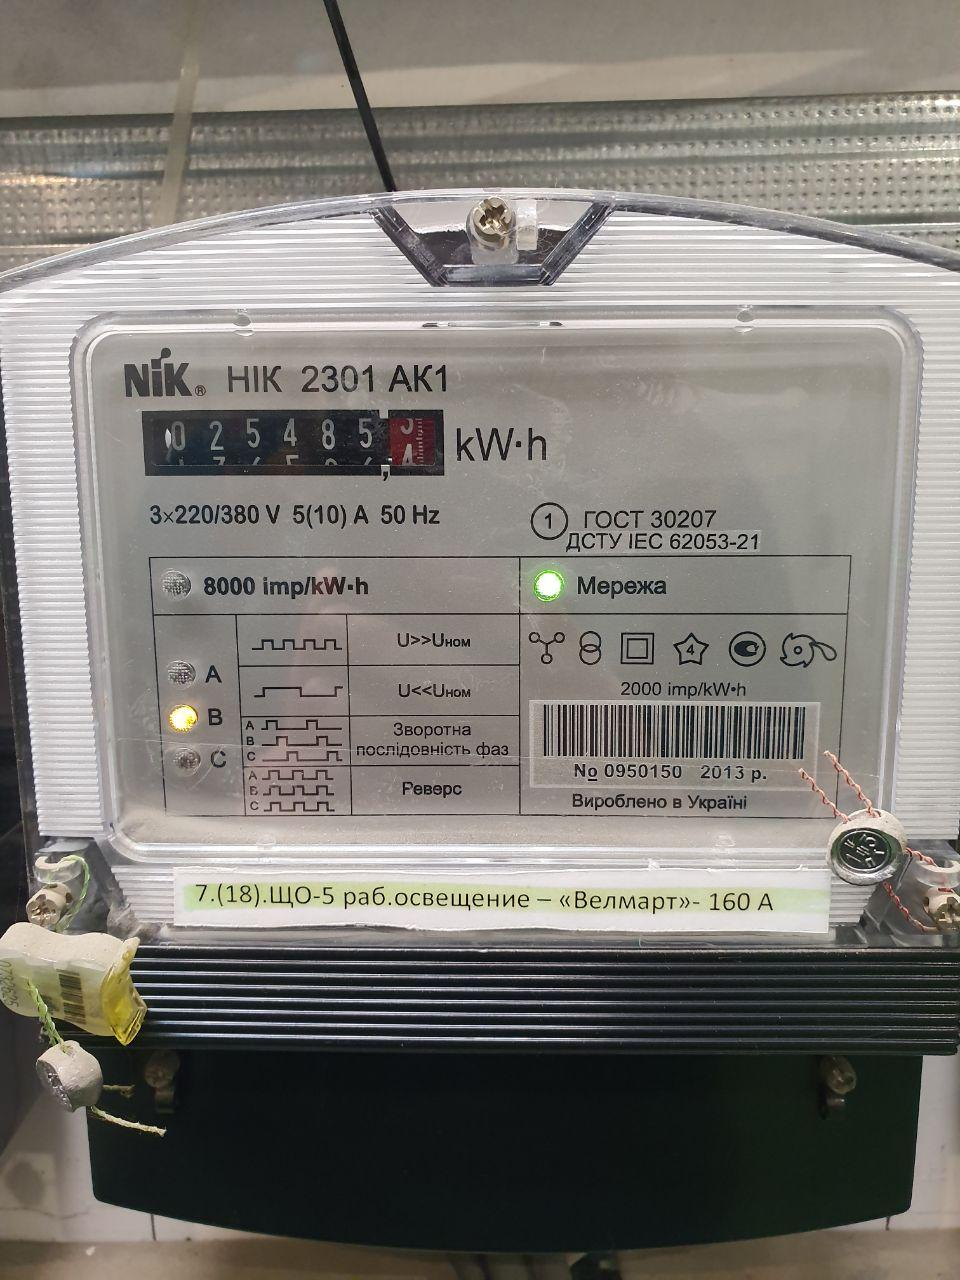0: (168, 418, 189, 453)
2: (207, 418, 227, 453)
4: (280, 415, 301, 449), (399, 441, 418, 469)
5: (355, 415, 376, 452), (243, 415, 263, 450)
8: (319, 415, 339, 453)
screen: (133, 402, 454, 488)
